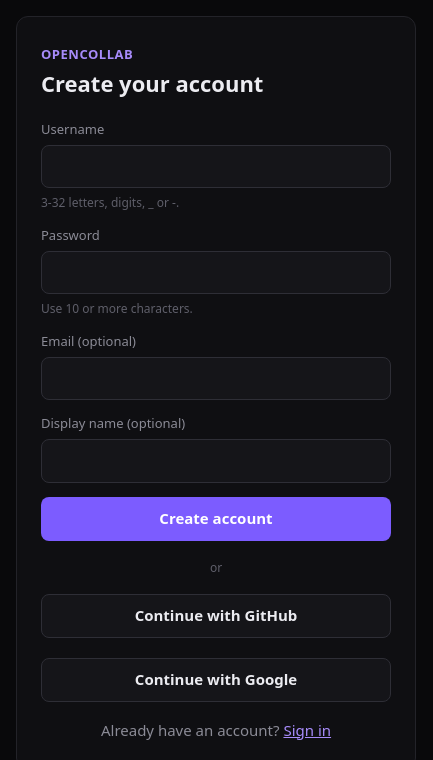
Test: register › shows the server 409 message
The width and height of the screenshot is (433, 760).
Type "ada" into the field labelled "Username" at (216, 166), box [41,145,391,188]
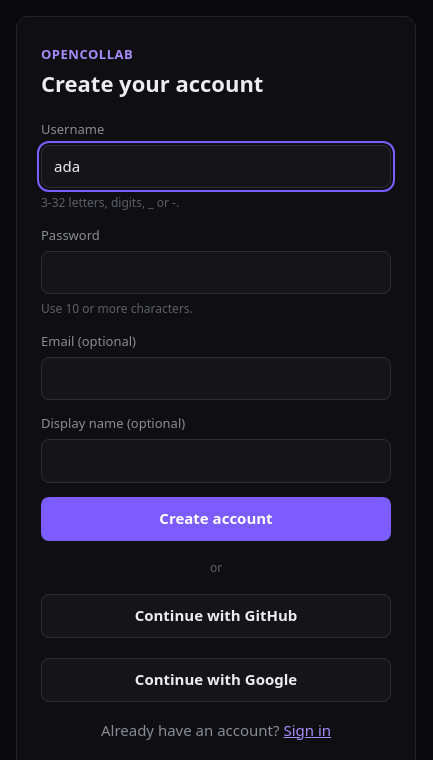
Type "0123456789" into the password field labelled "Password" at (216, 272), box [41,251,391,294]
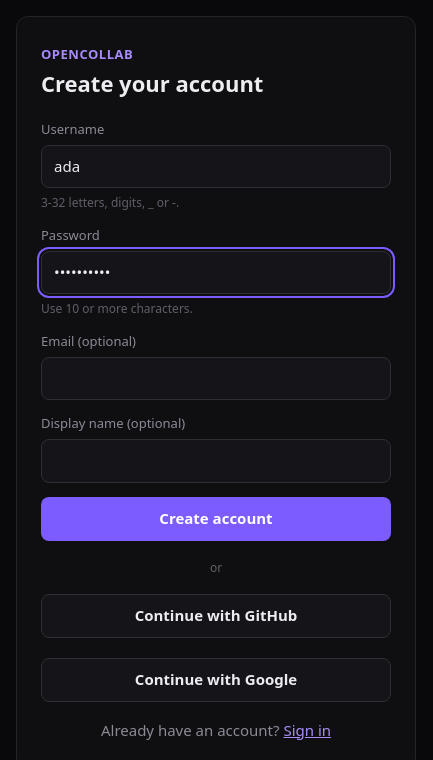
Click the button "Create account" at (216, 519), box [41,497,391,541]
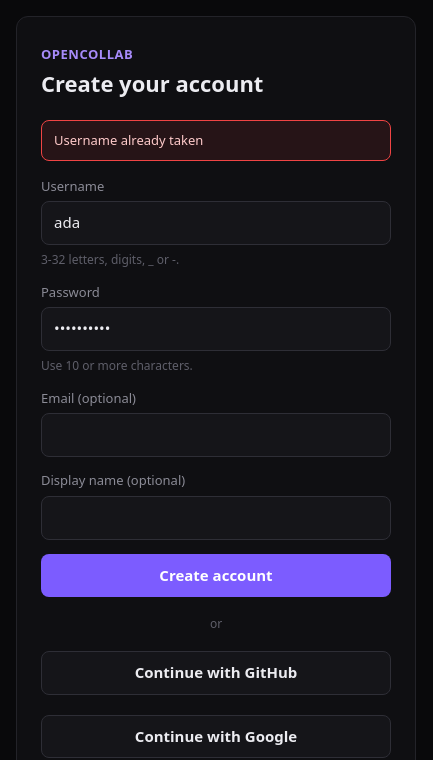
Expected: the message shows "already taken", [54,131,203,149]
